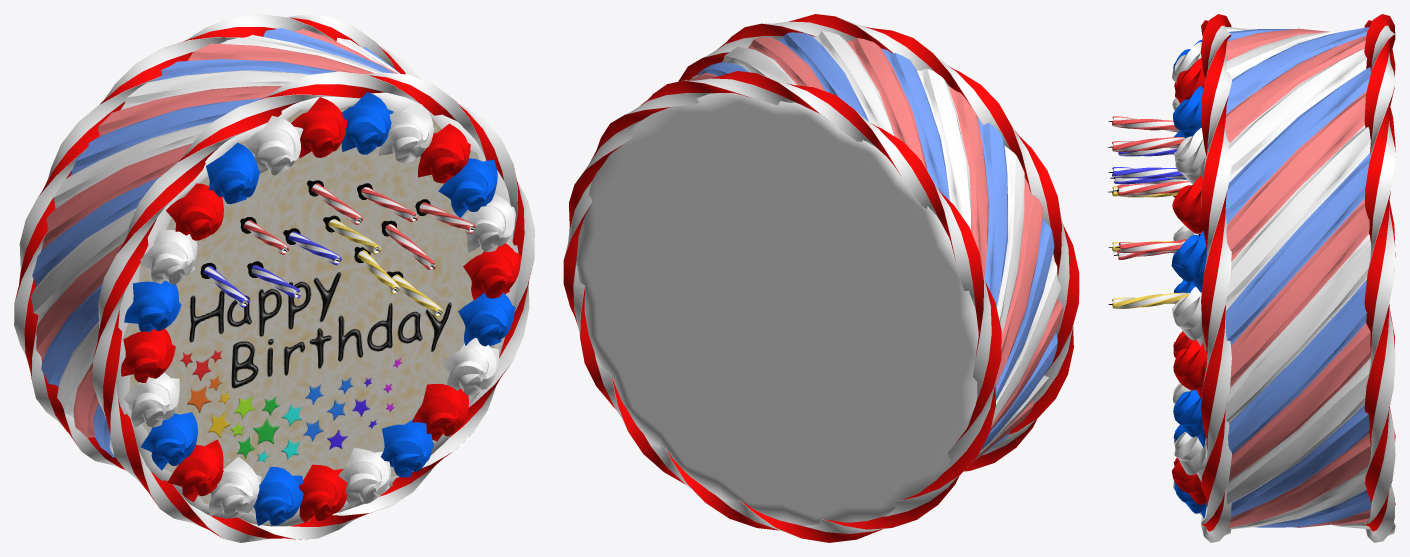
Rendered from TartaCumpleaños.fbx.
3 views of the same model, side by side, from view 1: azimuth 30°, elevation 25°; view 2: azimuth 150°, elevation 25°; view 3: azimuth 270°, elevation 25° (orthographic). The views are drawn at different scales.
Parts seen in each view (by area): view 1: birthday_cake; view 2: birthday_cake; view 3: birthday_cake.
Part boxes in pixels (x1=…): birthday_cake: x1=14, y1=14, x2=534, y2=542; birthday_cake: x1=563, y1=14, x2=1079, y2=542; birthday_cake: x1=1108, y1=14, x2=1395, y2=542.
Bounding box in the file's own units: 16.67 × 16.66 × 9.09.
11 materials, 1 textured.
